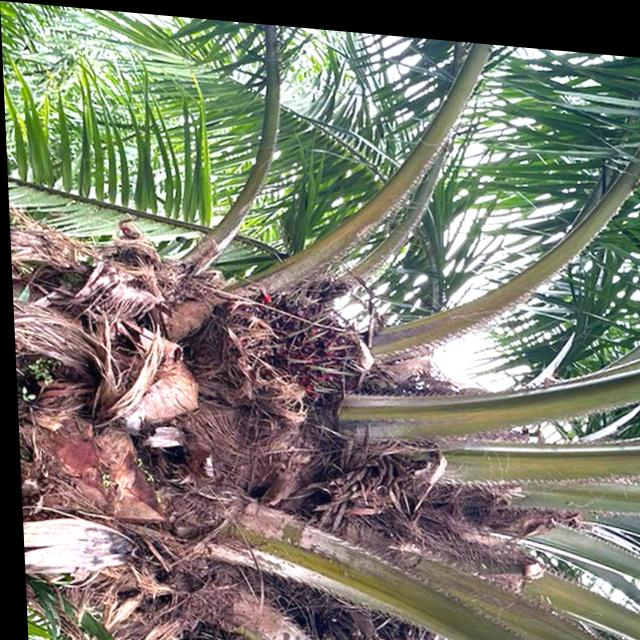ripe: (248, 282, 358, 405)
